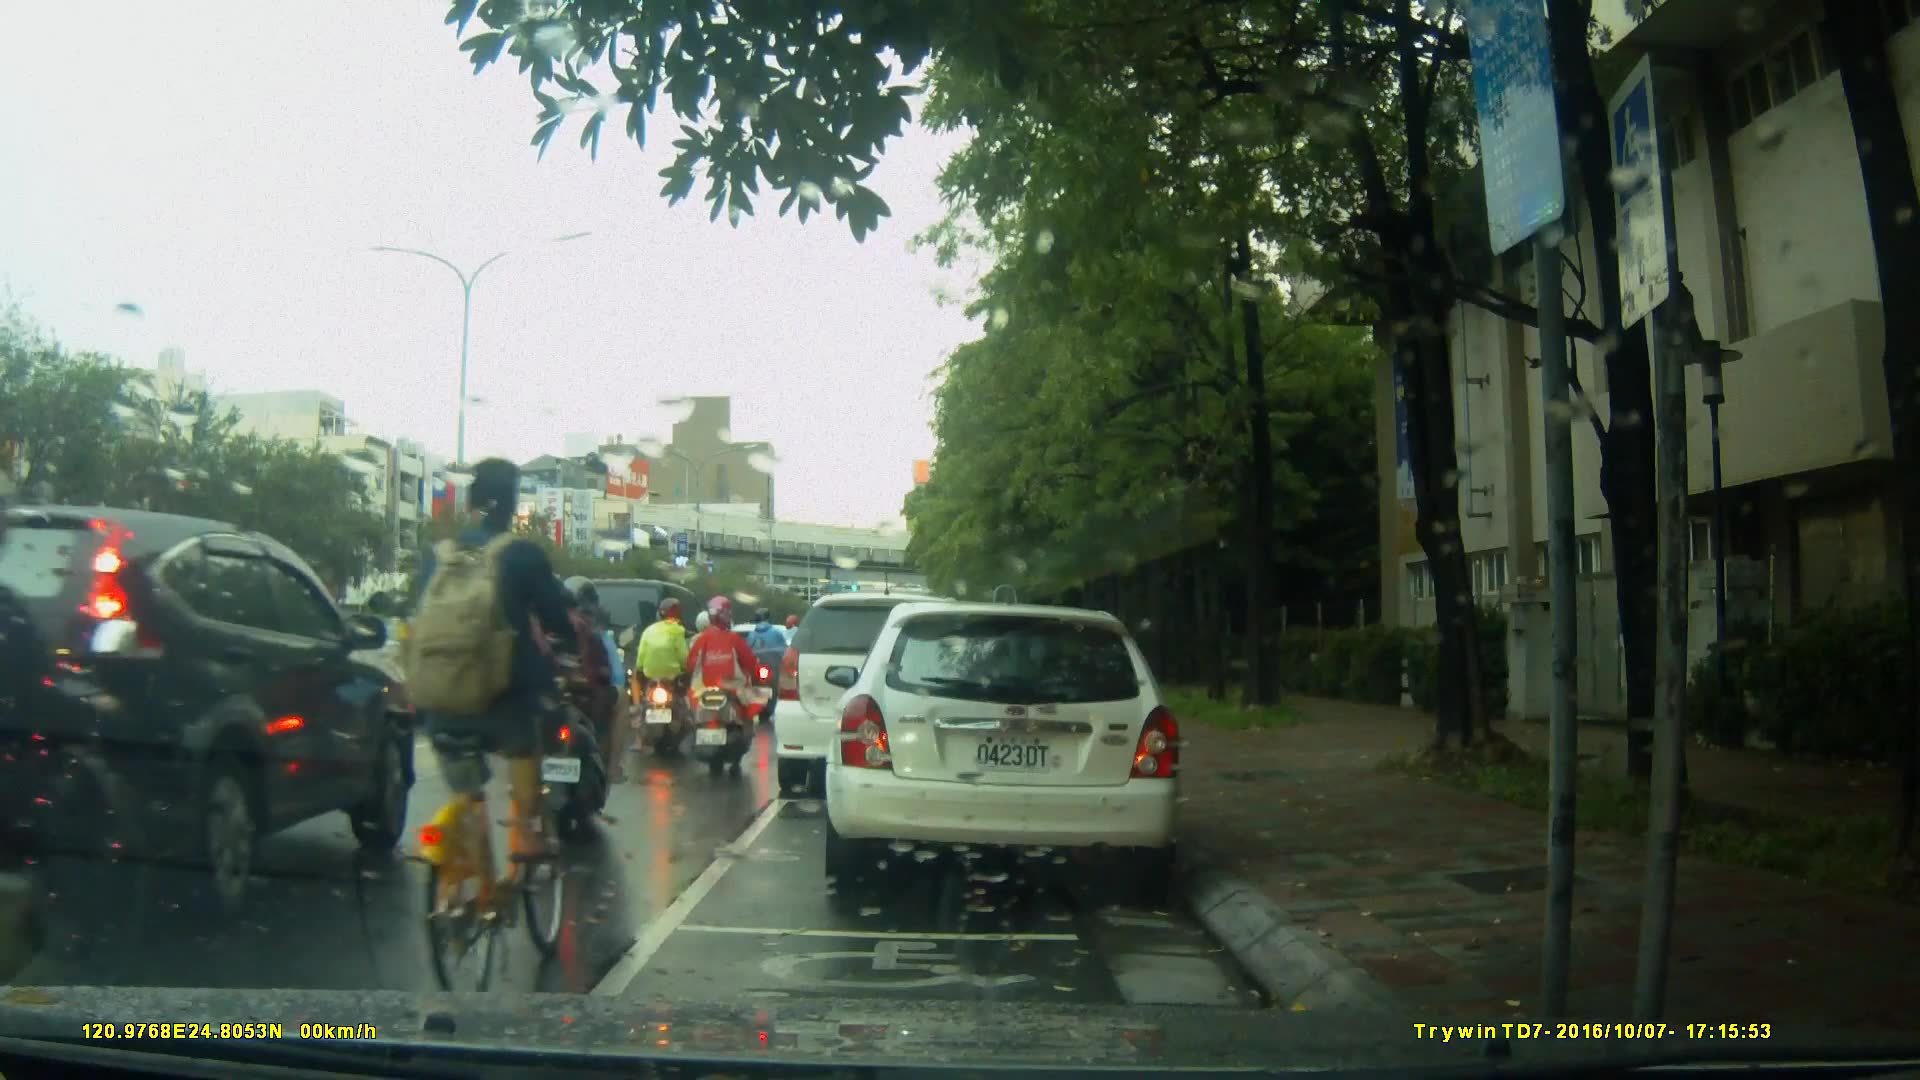rider: (409, 458, 595, 1002), (528, 575, 630, 837), (679, 597, 754, 777), (634, 600, 707, 758), (464, 601, 529, 731), (677, 604, 744, 728), (745, 600, 797, 728)
vehicle: (2, 506, 414, 933), (822, 604, 1188, 883), (774, 595, 995, 802), (339, 610, 522, 726)
